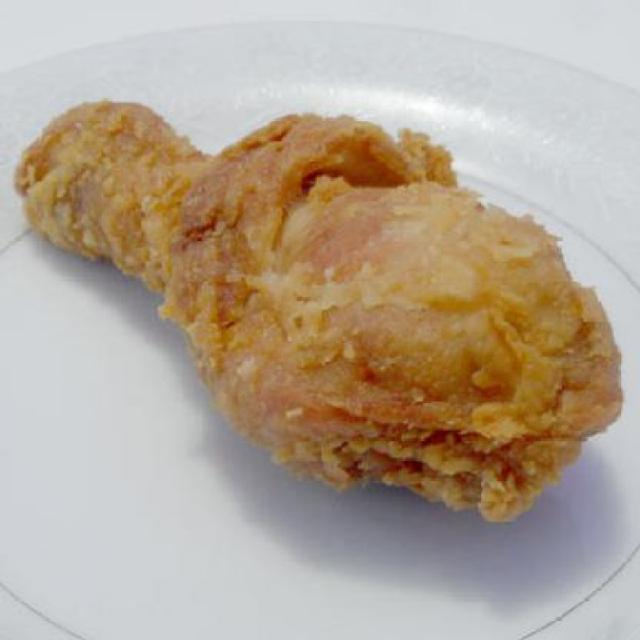Frango: (32, 68, 638, 494)
